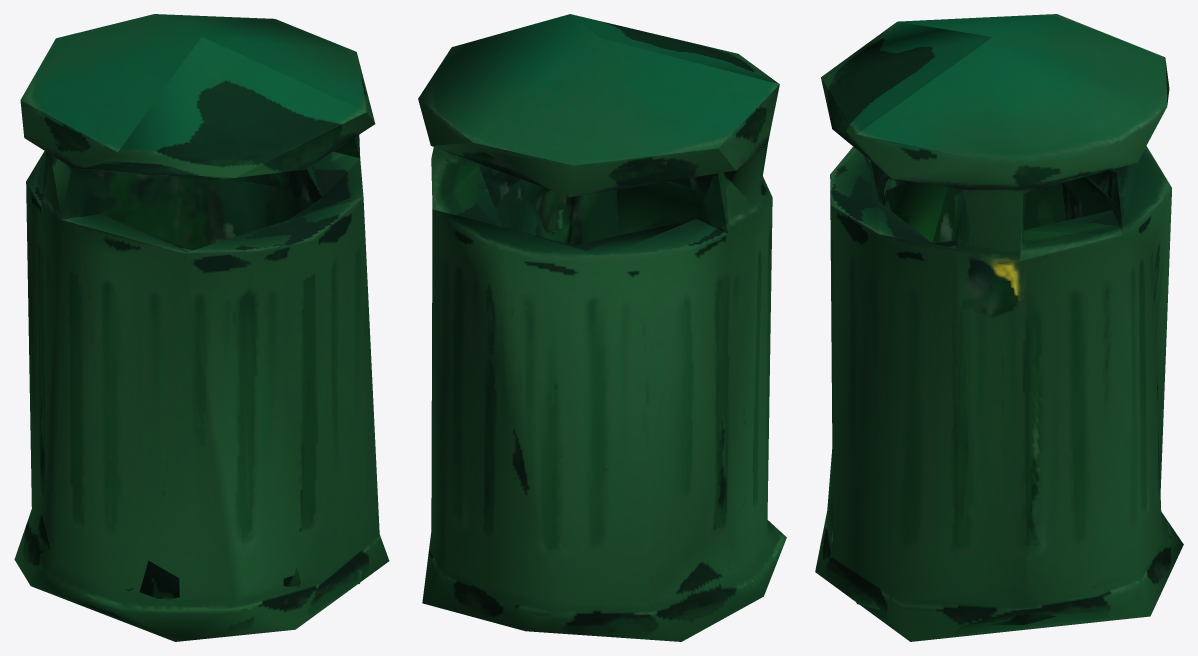
Rendered from city-trashcan.glb.
3 views of the same model, side by side, from view 1: azimuth 30°, elevation 25°; view 2: azimuth 150°, elevation 25°; view 3: azimuth 270°, elevation 25° (orthographic).
Parts seen in each view (by area): view 1: geometry_0.001; view 2: geometry_0.001; view 3: geometry_0.001.
Boxes of the visible parts, x1=… form: geometry_0.001: x1=14, y1=14, x2=389, y2=641; geometry_0.001: x1=418, y1=14, x2=786, y2=641; geometry_0.001: x1=815, y1=14, x2=1183, y2=641.
Bounding box in the file's own units: 0.6455 × 1.02 × 0.6384.
Materials: 1 (1 with a texture image).
